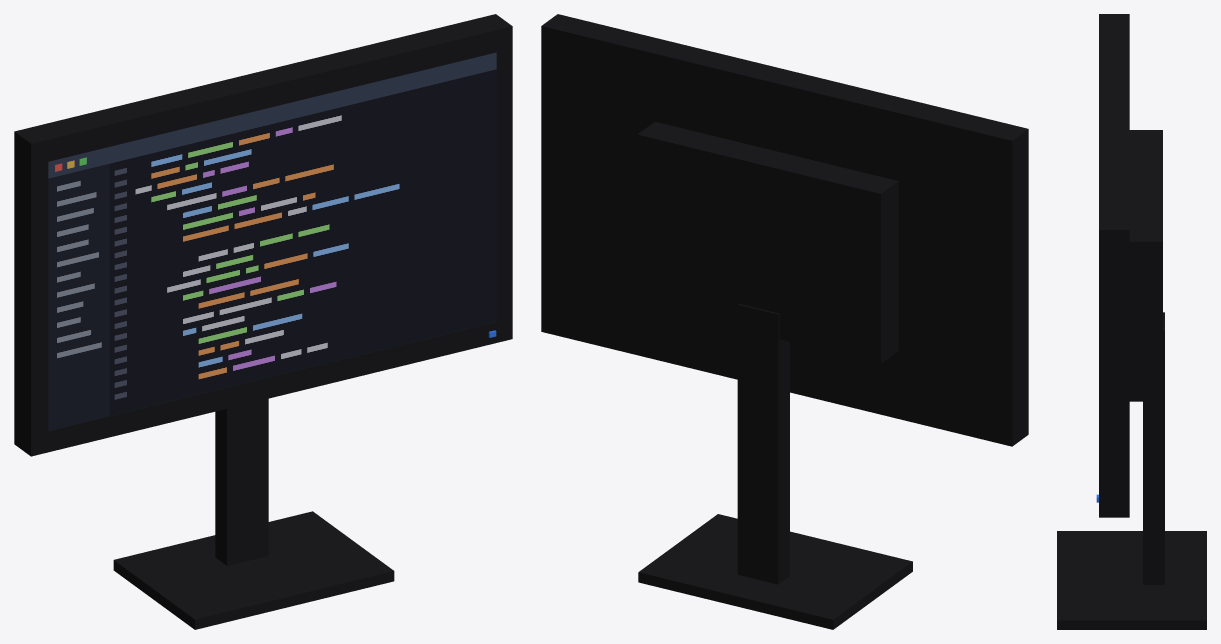
File: monitor.obj
3 renders of one model, left to right at view 1: azimuth 30°, elevation 25°; view 2: azimuth 150°, elevation 25°; view 3: azimuth 270°, elevation 25°, orthographic. The views are drawn at different scales.
Parts seen in each view (by area): view 1: monitor; view 2: monitor; view 3: monitor.
Boxes of the visible parts, x1,y1,x2,y2 form: monitor: [14, 14, 512, 629]; monitor: [541, 14, 1028, 629]; monitor: [1057, 14, 1206, 629].
Size of the model in its own units: 0.58 by 0.58 by 0.17.
3 materials, 1 textured.
